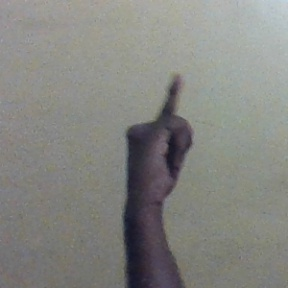I: (120, 71, 202, 194)
